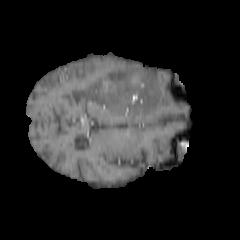glioma: (83, 65, 162, 116)
